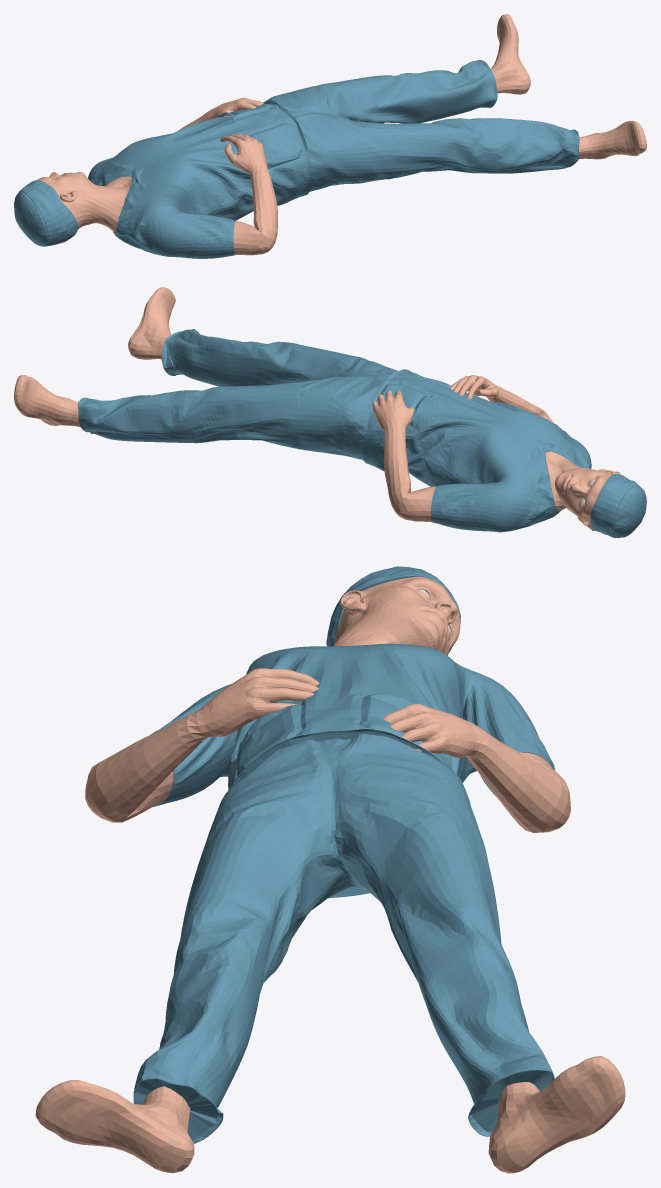
File: Dynamic.glb
3 views of the same model, one above another, from view 1: azimuth 30°, elevation 25°; view 2: azimuth 150°, elevation 25°; view 3: azimuth 270°, elevation 25° (orthographic). The views are drawn at different scales.
Visible parts, largest first — view 1: patient; view 2: patient; view 3: patient.
Boxes of the visible parts, left/top/right/bottom form: patient: left=14, top=14, right=646, bottom=258; patient: left=14, top=287, right=646, bottom=537; patient: left=35, top=566, right=625, bottom=1173.
Size of the model in its own units: 2.37 by 0.4091 by 1.12.
Materials: 1 (1 with a texture image).
